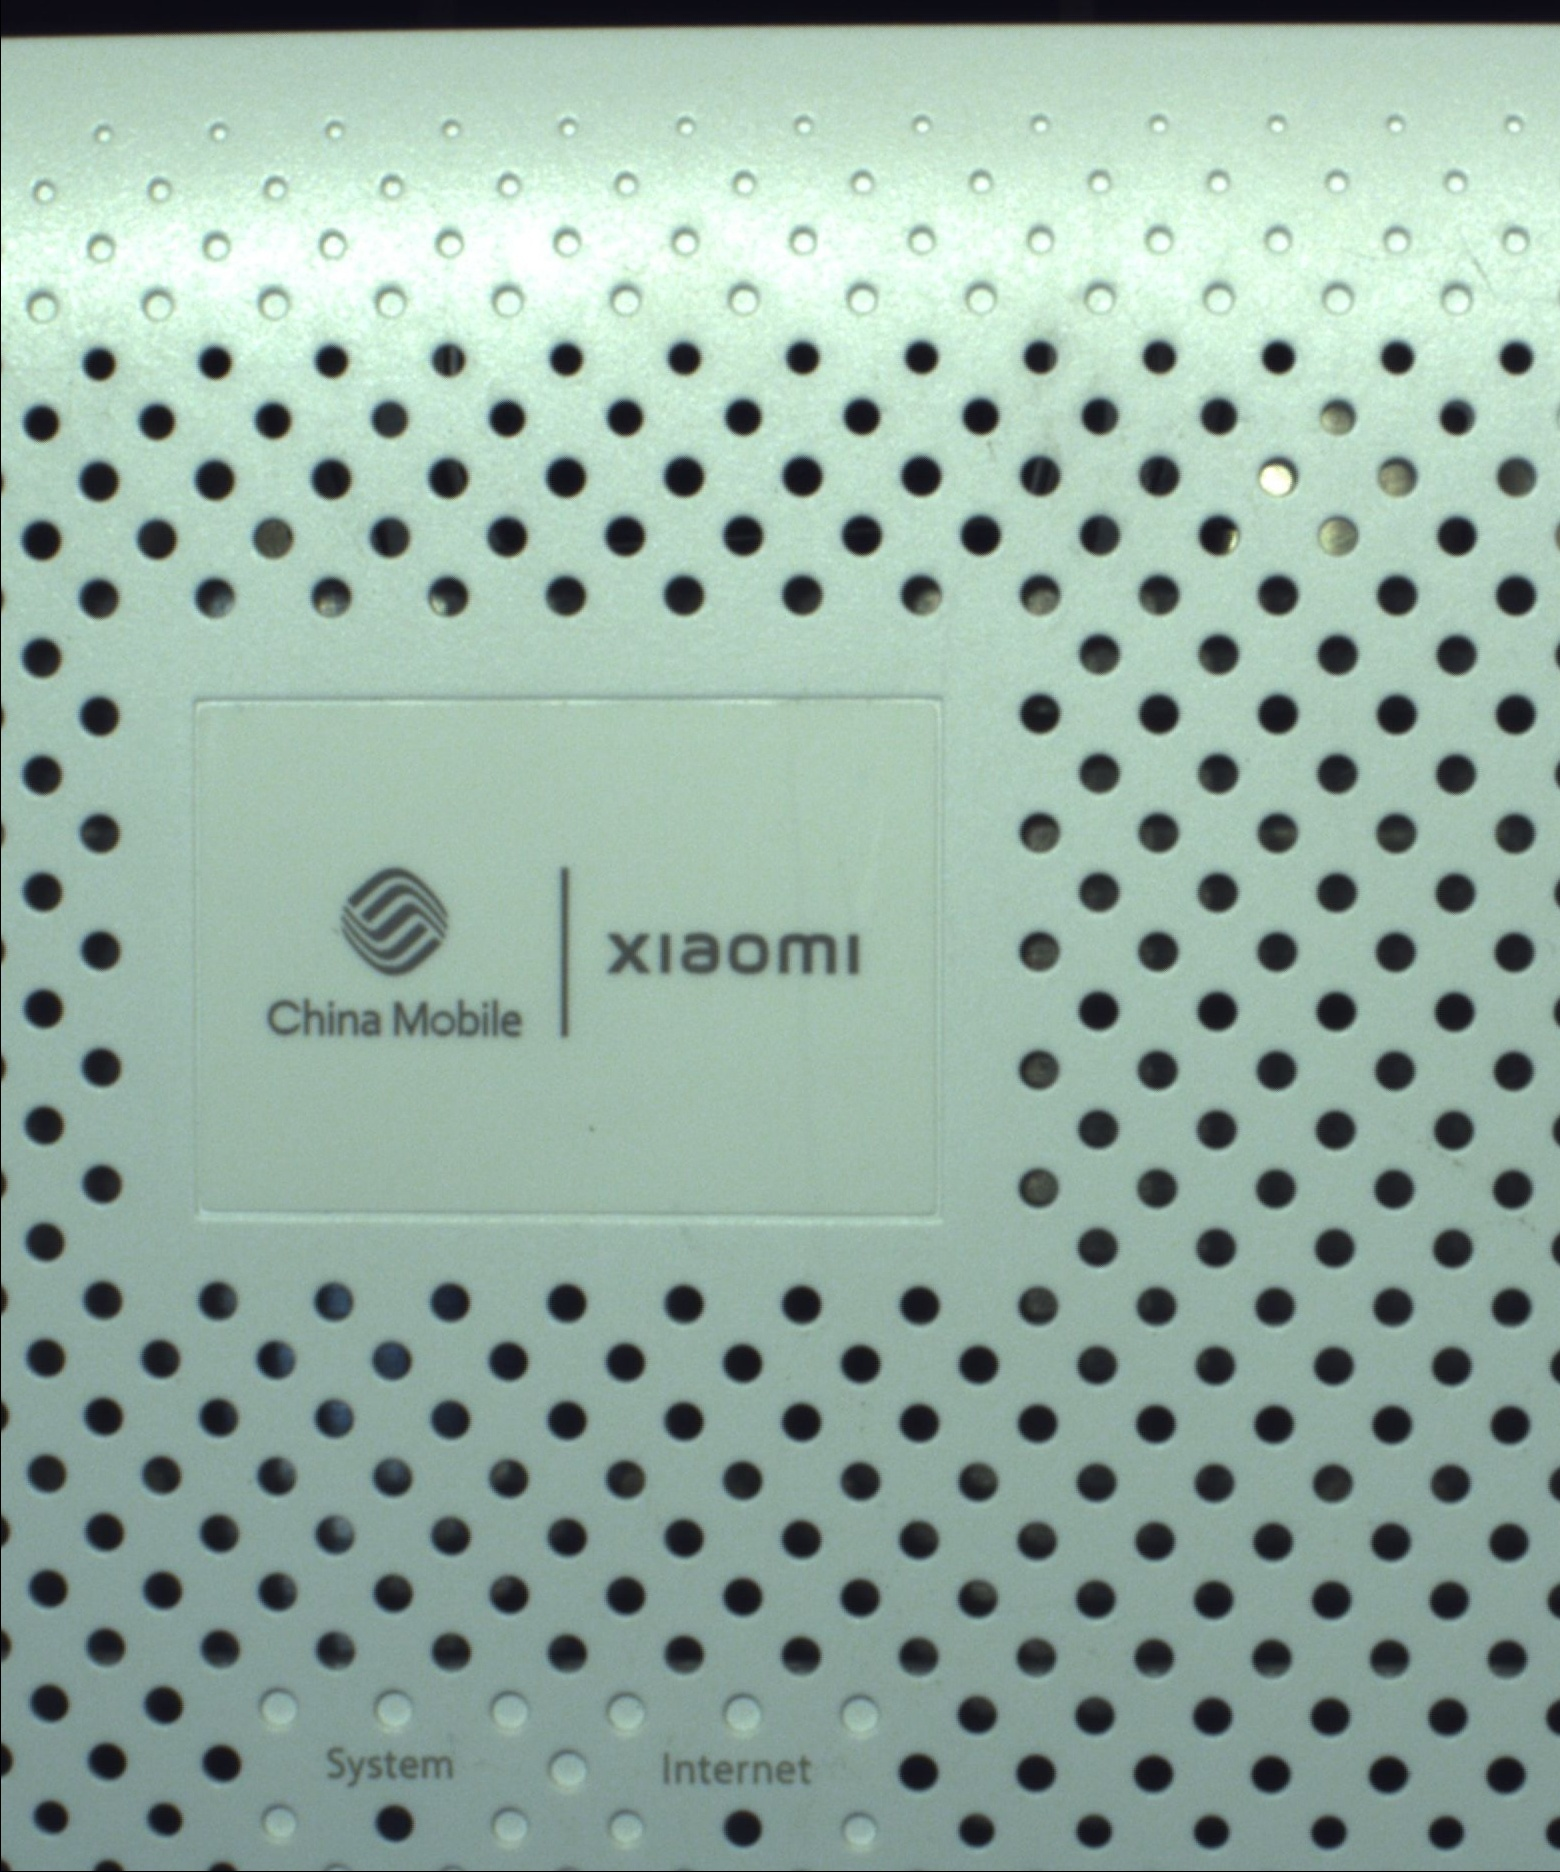MAD_ChinaMobile: (250, 861, 879, 1050)
